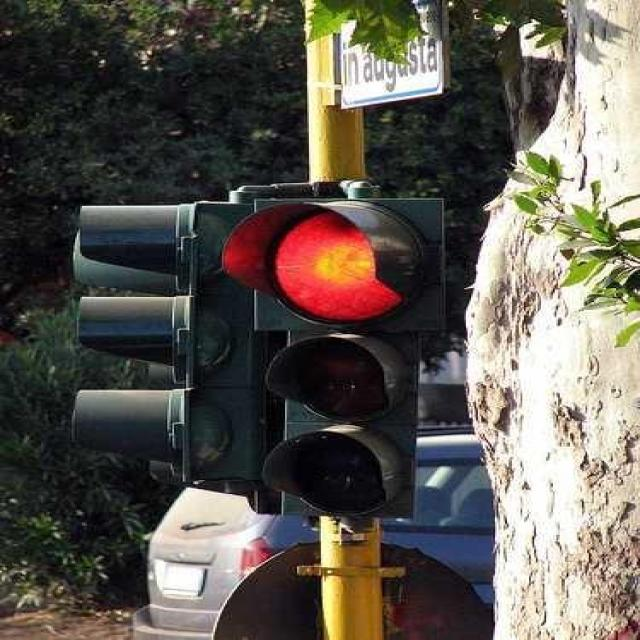Traffic Light -Red-: (248, 186, 430, 536)
